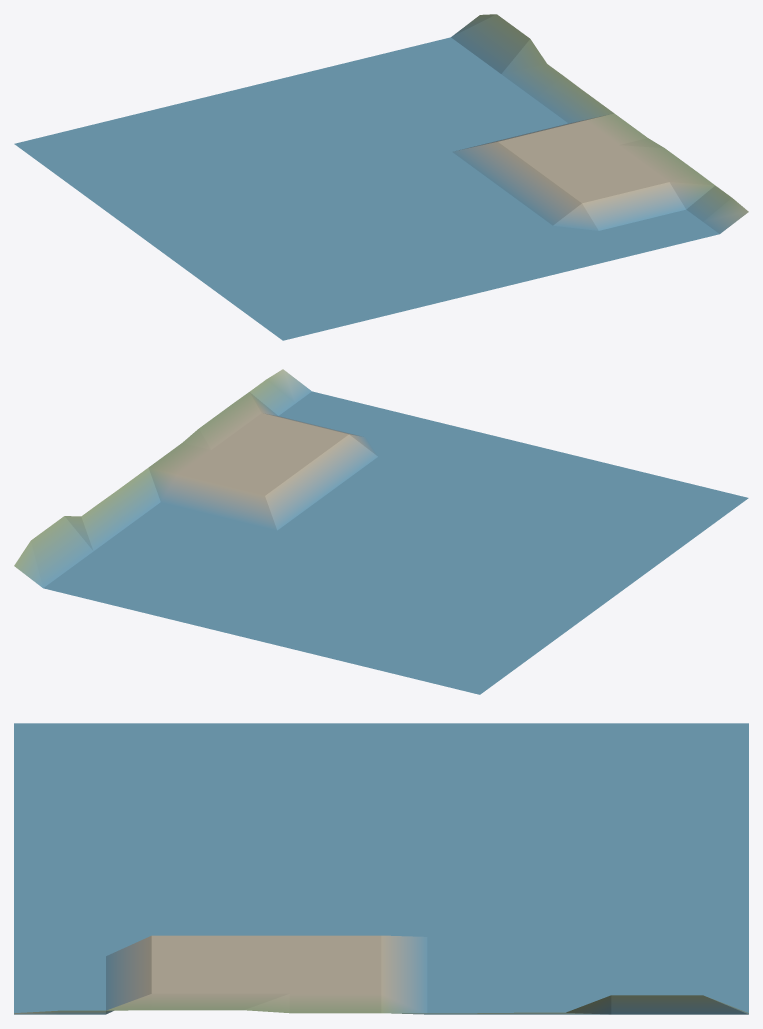
The picture shows the model from 3 angles, top to bottom: view 1: azimuth 30°, elevation 25°; view 2: azimuth 150°, elevation 25°; view 3: azimuth 270°, elevation 25°; orthographic projection. The views are drawn at different scales.
Size of the model in its own units: 32 by 1.86 by 32.
